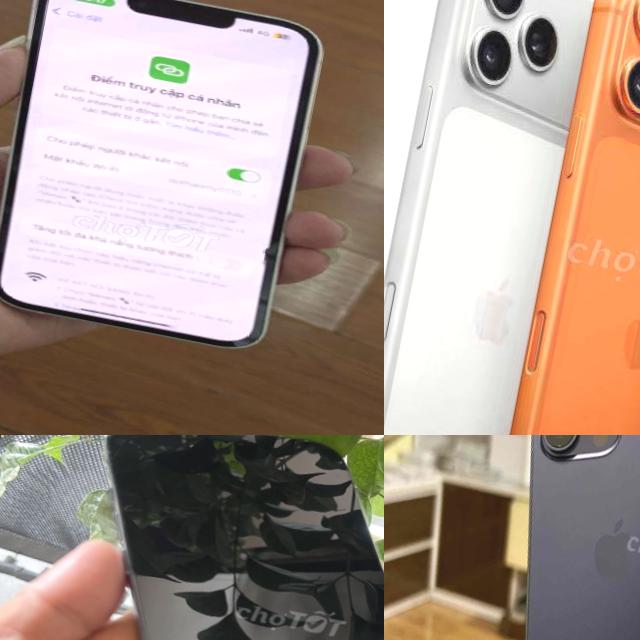gen_12_13: (0, 0, 355, 373), (26, 435, 384, 640)
